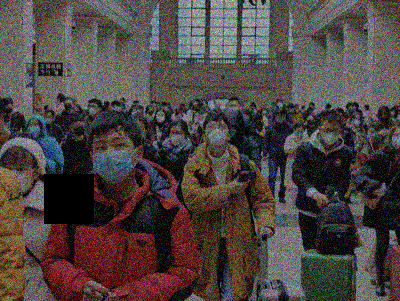with_mask: (92, 135, 138, 184), (2, 160, 36, 197), (205, 121, 230, 147), (321, 125, 340, 144), (169, 128, 186, 146), (27, 120, 43, 138), (72, 123, 87, 136), (391, 129, 400, 149), (44, 112, 55, 125), (89, 103, 100, 115), (199, 114, 208, 128), (379, 112, 391, 122), (155, 113, 166, 123), (294, 128, 304, 138), (352, 116, 362, 126), (229, 102, 240, 111), (64, 101, 74, 110), (112, 103, 122, 111), (276, 115, 286, 123), (5, 105, 14, 113), (307, 116, 315, 125), (175, 112, 182, 119), (277, 101, 284, 108), (148, 108, 155, 114), (288, 107, 295, 112)
without_mask: (215, 103, 221, 109)
